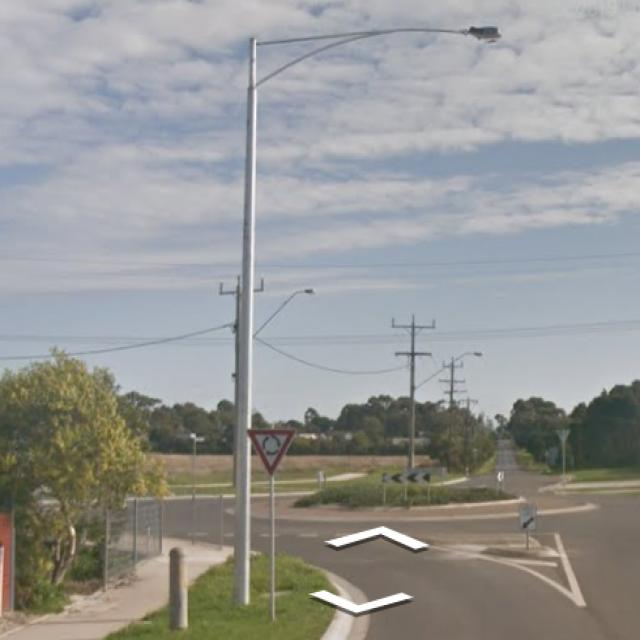HV-transmission: (219, 273, 264, 295), (391, 312, 436, 329), (442, 356, 463, 368)
crossarm: (221, 287, 262, 295), (394, 350, 431, 357), (392, 326, 434, 330), (438, 378, 466, 384), (442, 366, 463, 368)
steel-pole: (233, 38, 259, 607)
streetlight: (252, 26, 502, 89), (252, 288, 316, 338), (414, 351, 483, 390)
timber-pole: (409, 313, 415, 471), (449, 357, 455, 413)
